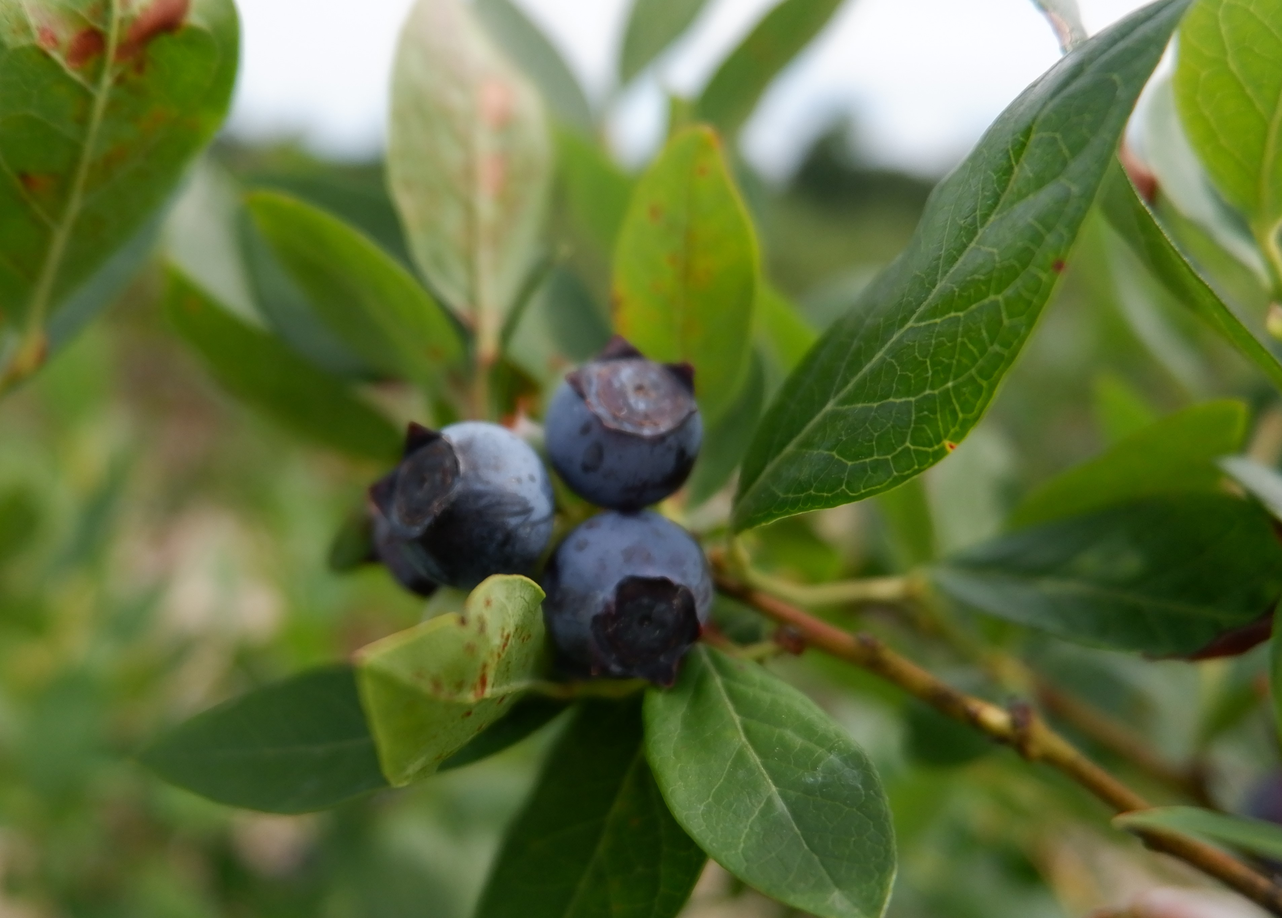Mature: (371, 424, 550, 586), (546, 513, 709, 682), (548, 344, 701, 508), (371, 506, 442, 600)
